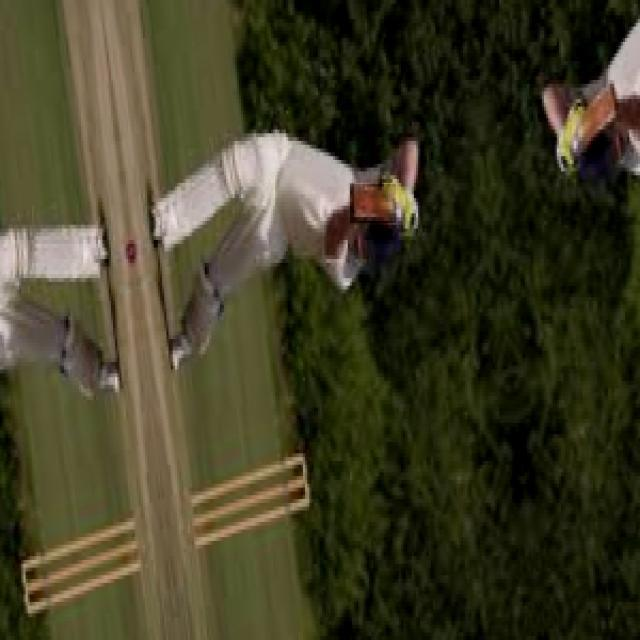bat: (333, 173, 390, 227)
toe: (344, 179, 361, 221)
